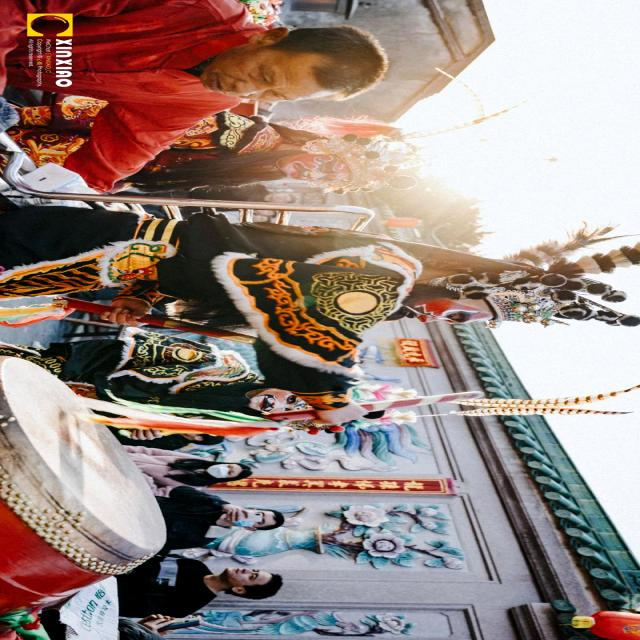Phasianus Colchicus: (456, 384, 639, 416)
